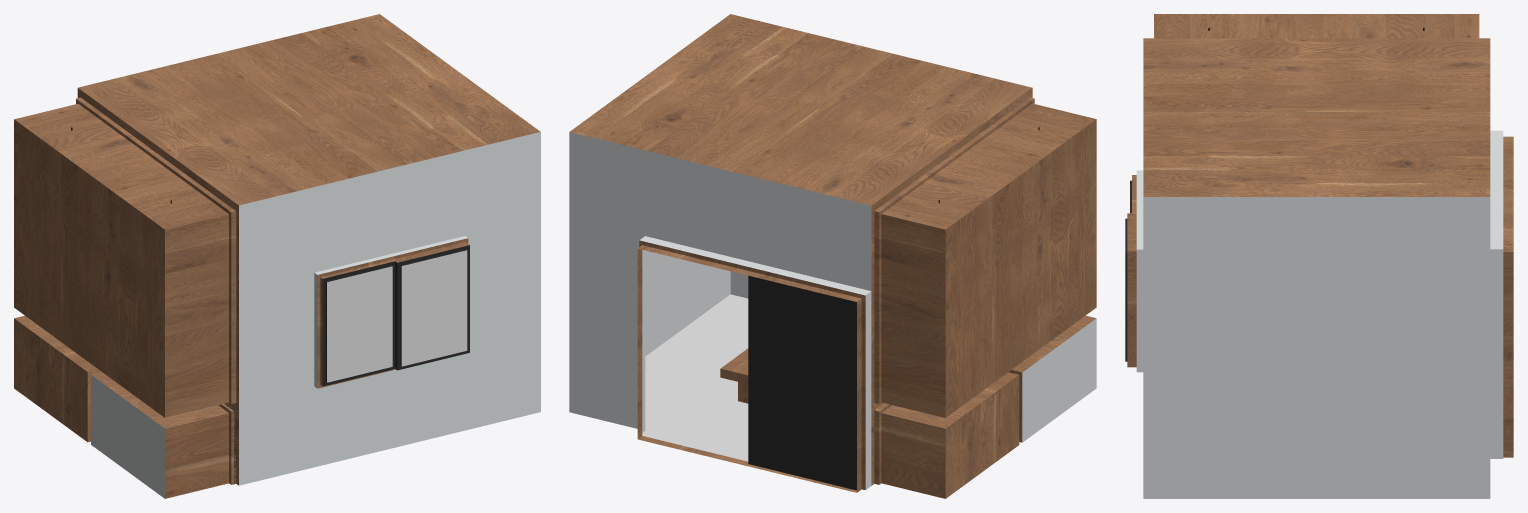
Rendered from room.fbx.
3 views of the same model, side by side, from view 1: azimuth 30°, elevation 25°; view 2: azimuth 150°, elevation 25°; view 3: azimuth 270°, elevation 25° (orthographic). The views are drawn at different scales.
Parts seen in each view (by area): view 1: Walls; view 2: Walls, MainDoor, Table; view 3: Walls.
Part boxes in pixels (<box>): Walls: <box>14,14,540,498</box>; Walls: <box>569,14,1096,498</box>; MainDoor: <box>748,275,856,490</box>; Table: <box>720,348,748,403</box>; Walls: <box>1125,14,1513,498</box>.
Size of the model in its own units: 4.92 by 3.55 by 4.14.
